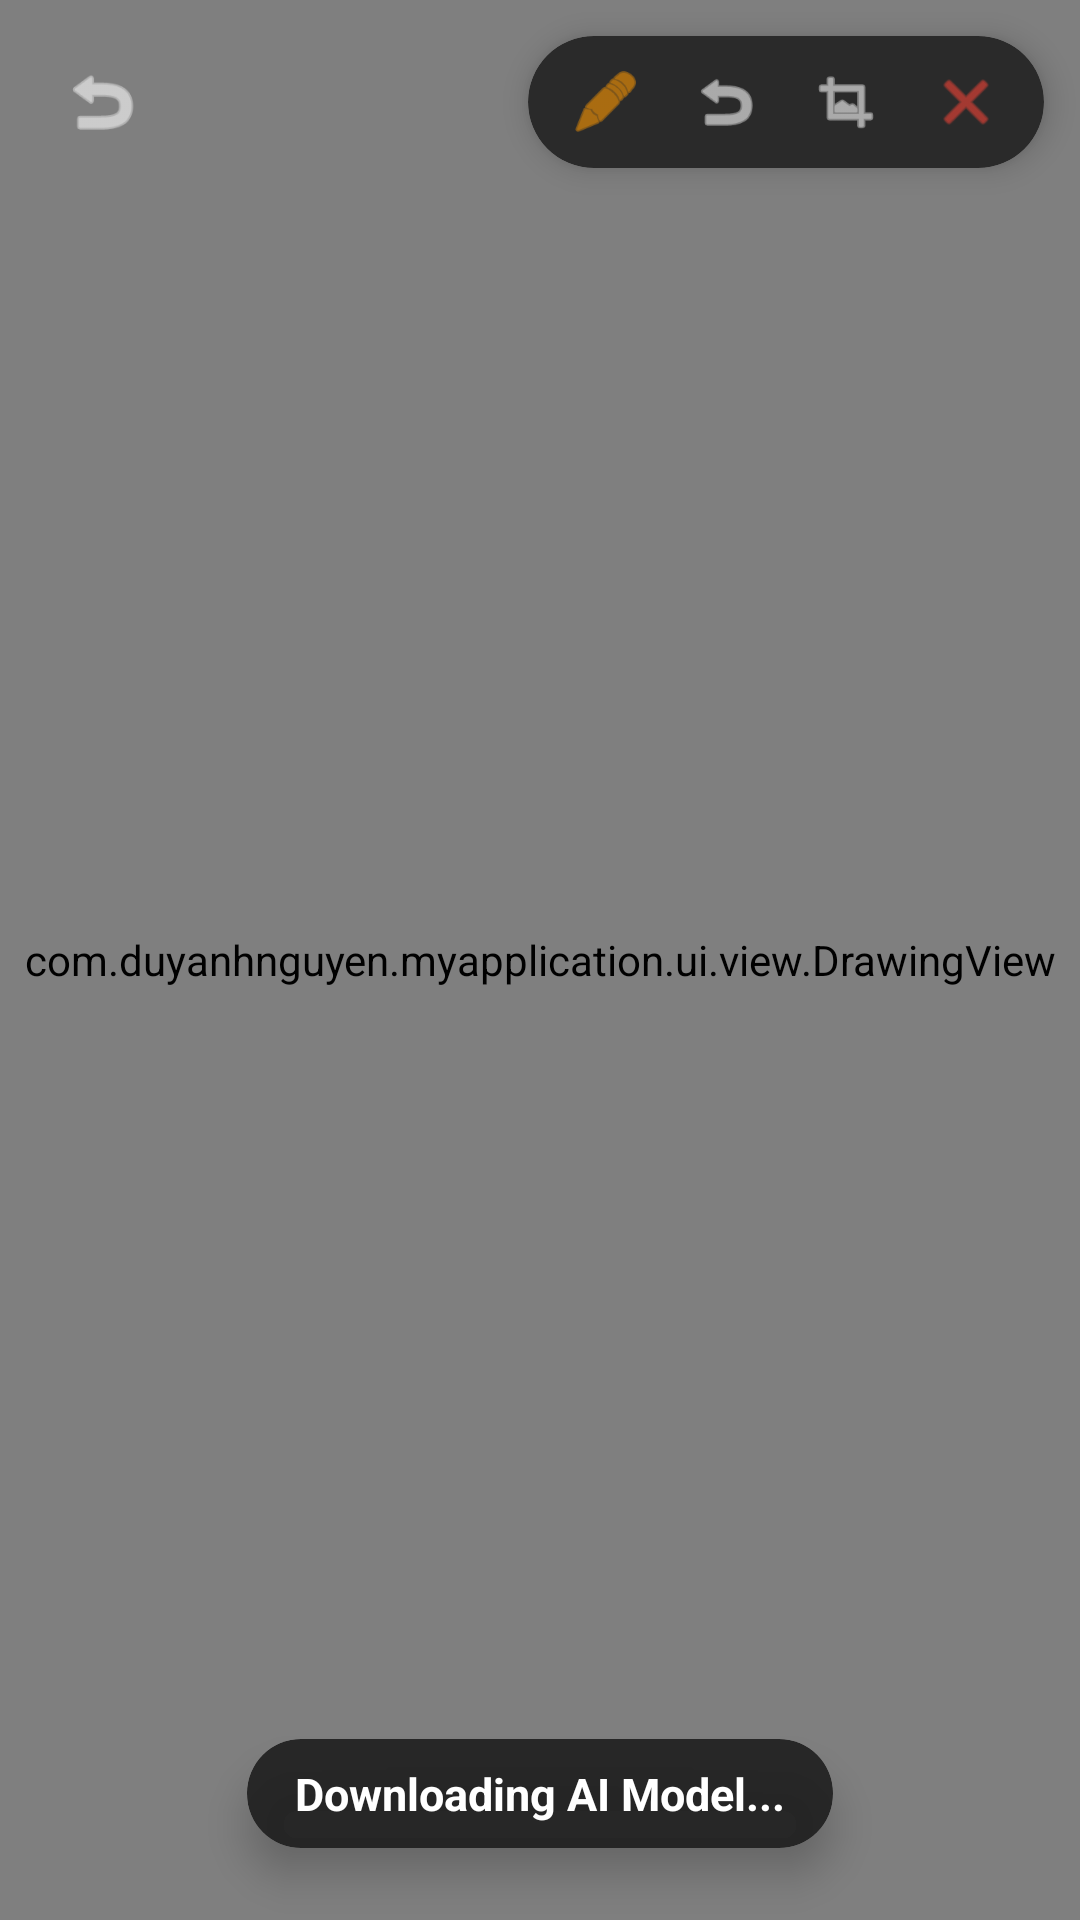

Locate icon controls on the screen. Image size 1080px x 1920px, boxes as (x1, y1, x2, y2).
Back: (73, 76, 133, 130)
Clear Canvas: (943, 79, 988, 125)
Pen or Eraser Mode: (575, 71, 636, 132)
Undo: (701, 79, 753, 126)
